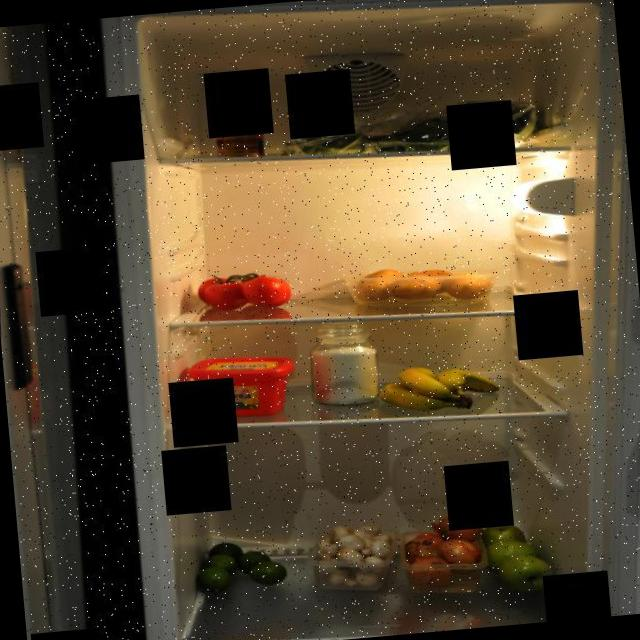Cebolla: (393, 506, 494, 599)
Champiñones: (309, 519, 392, 596)
Mantequilla: (182, 348, 302, 424)
Manzana: (476, 516, 560, 598)
Patata: (328, 252, 506, 320)
Plátano: (376, 357, 504, 419)
Tomate: (195, 266, 297, 315)
corn: (212, 122, 268, 162)
green_beans: (270, 106, 404, 165)
spinach: (374, 90, 543, 163)
sugar: (304, 318, 382, 410)
